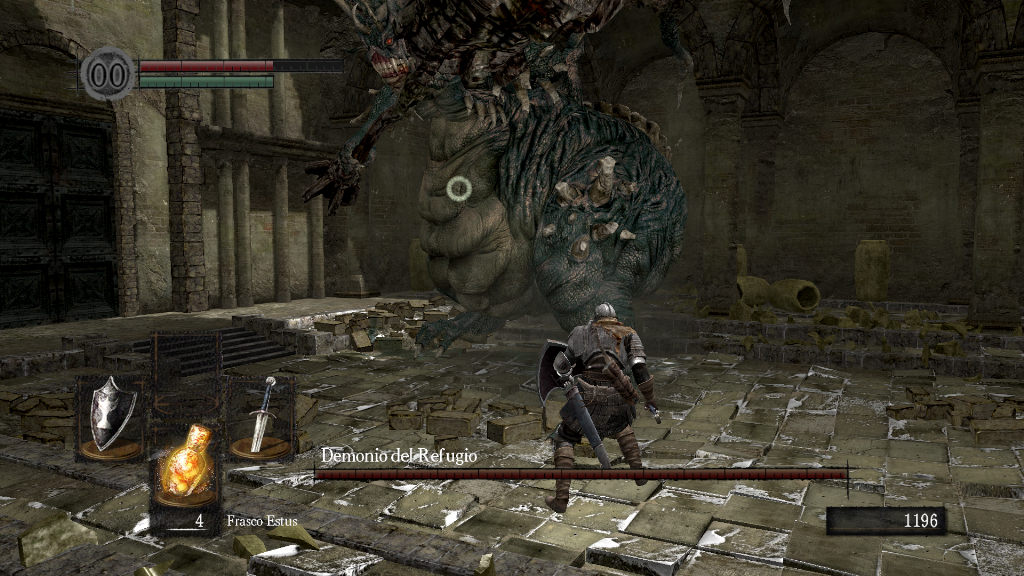asylumDemon: (299, 2, 688, 354)
bossHP: (314, 469, 847, 479)
health: (138, 58, 343, 71)
humanity: (80, 45, 136, 102)
player: (538, 303, 662, 515)
souls: (825, 506, 945, 536)
stamina: (138, 74, 274, 88)
